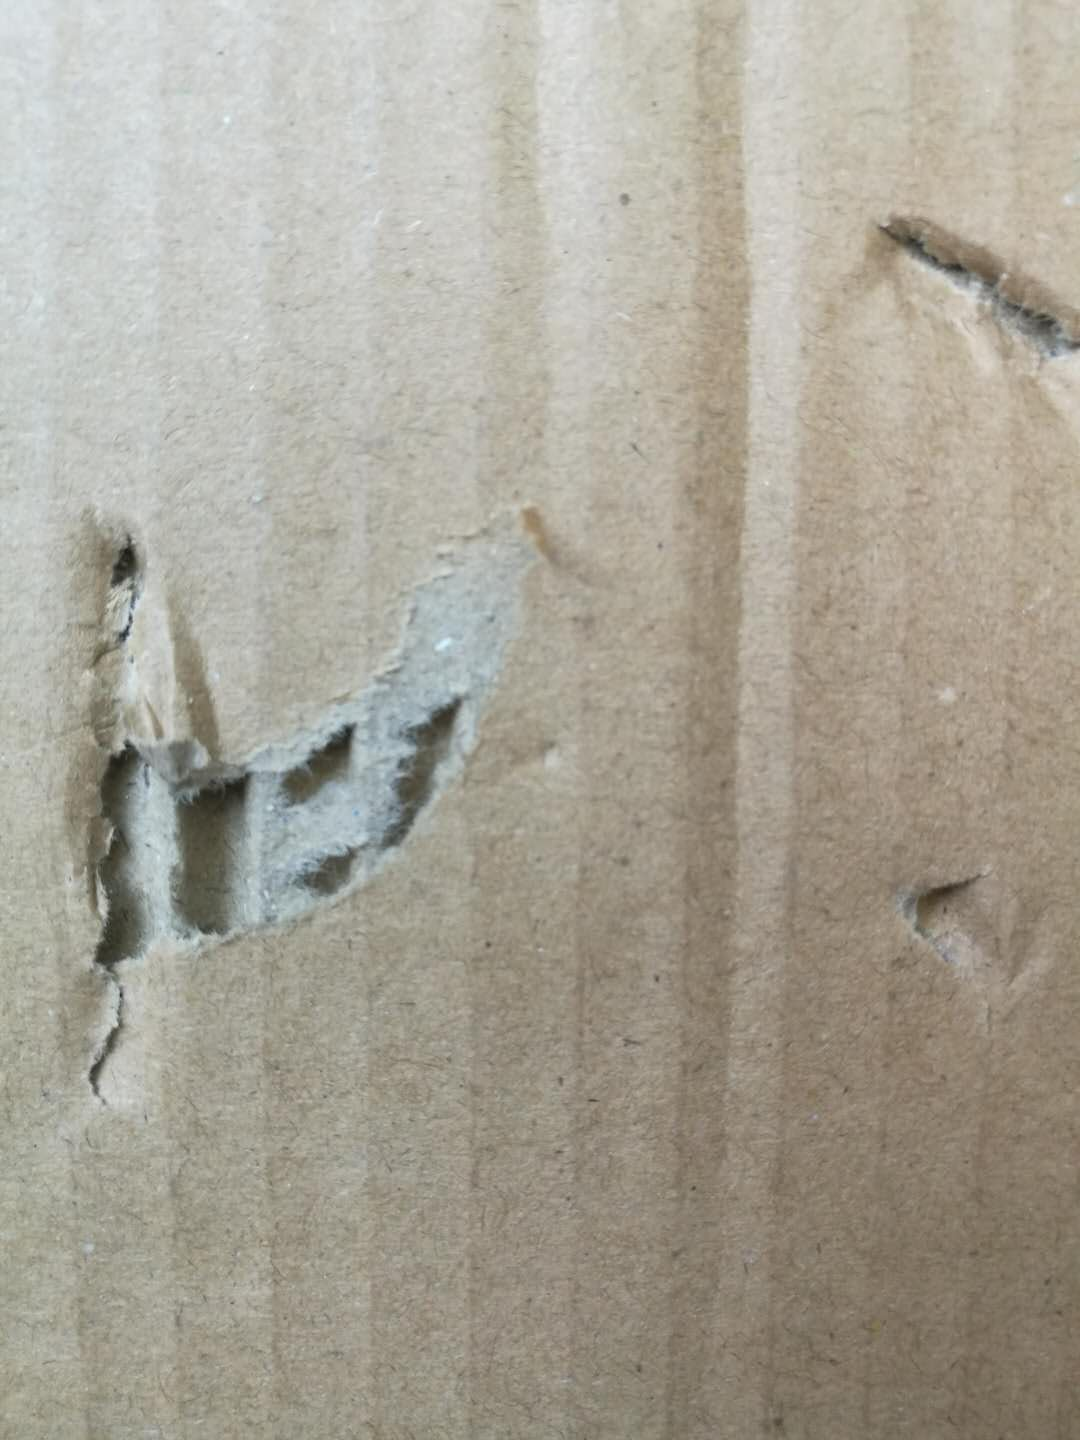defect: (17, 455, 628, 1155), (639, 5, 832, 1438), (469, 5, 628, 452), (839, 179, 1080, 461), (877, 848, 1075, 1039)
